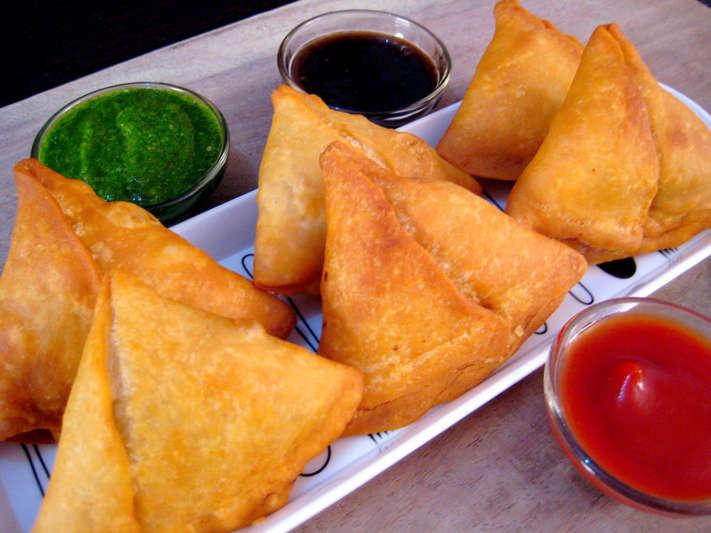samosa: (33, 271, 362, 531), (0, 160, 294, 441), (319, 142, 587, 434), (108, 271, 362, 532), (507, 24, 711, 264)
